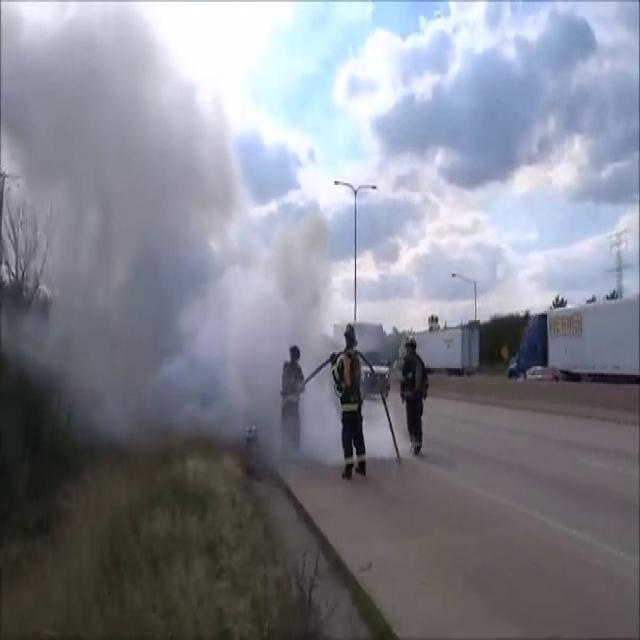Smoke: (20, 2, 338, 457)
